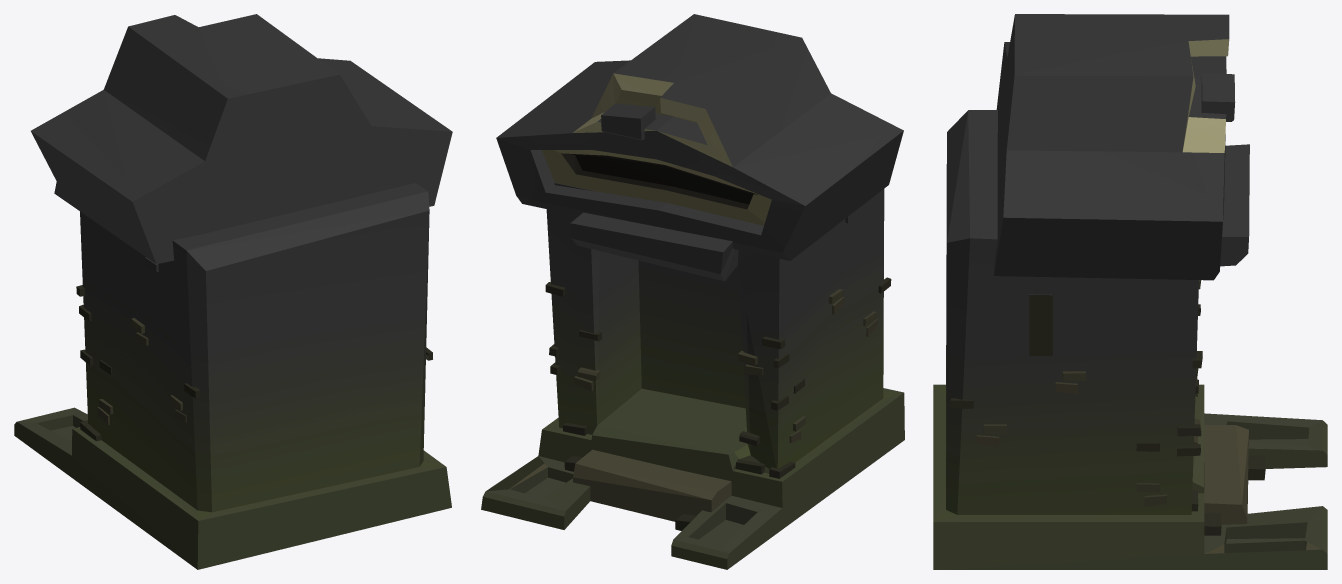
Rendered from ea_bld_tomb_niche_mossy_class_c_01b_pre_lev1.glb.
3 views of the same model, side by side, from view 1: azimuth 30°, elevation 25°; view 2: azimuth 150°, elevation 25°; view 3: azimuth 270°, elevation 25° (orthographic). The views are drawn at different scales.
Parts seen in each view (by area): view 1: ea_bld_tomb_niche_mossy_class_c_01b_pre_lev1; view 2: ea_bld_tomb_niche_mossy_class_c_01b_pre_lev1; view 3: ea_bld_tomb_niche_mossy_class_c_01b_pre_lev1.
Part boxes in pixels (left/top/right/bottom): ea_bld_tomb_niche_mossy_class_c_01b_pre_lev1: left=14, top=14, right=452, bottom=569; ea_bld_tomb_niche_mossy_class_c_01b_pre_lev1: left=481, top=14, right=904, bottom=569; ea_bld_tomb_niche_mossy_class_c_01b_pre_lev1: left=933, top=14, right=1327, bottom=569.
Size of the model in its own units: 3.29 by 4.2 by 3.27.
Materials: 1 (1 with a texture image).
